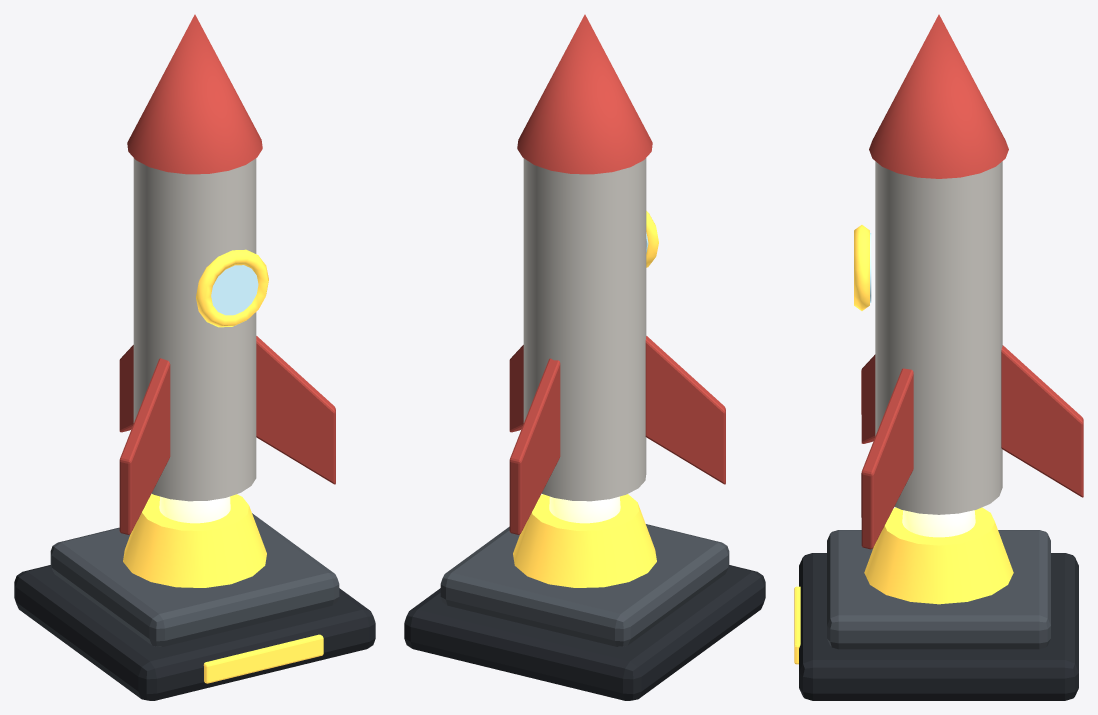
File: trofeu-foguete.glb
3 views of the same model, side by side, from view 1: azimuth 30°, elevation 25°; view 2: azimuth 150°, elevation 25°; view 3: azimuth 270°, elevation 25° (orthographic). The views are drawn at different scales.
Parts seen in each view (by area): view 1: trofeu-foguete; view 2: trofeu-foguete; view 3: trofeu-foguete.
Part boxes in pixels (left/top/right/bottom): trofeu-foguete: left=14, top=14, right=375, bottom=700; trofeu-foguete: left=404, top=14, right=765, bottom=700; trofeu-foguete: left=794, top=14, right=1083, bottom=700.
Size of the model in its own units: 0.6 by 1.5 by 0.62.
